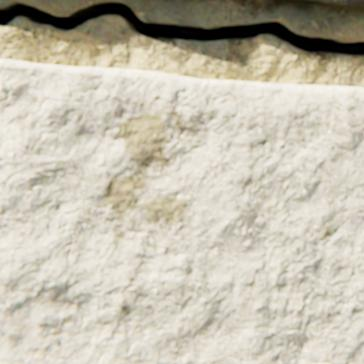brick: (0, 59, 363, 363), (305, 0, 363, 5)
crack: (0, 0, 363, 57)
